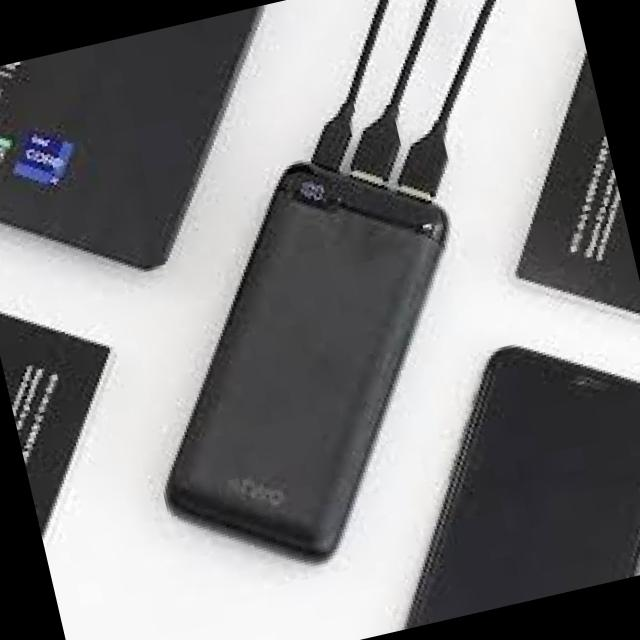portable-charger: (94, 128, 517, 594)
